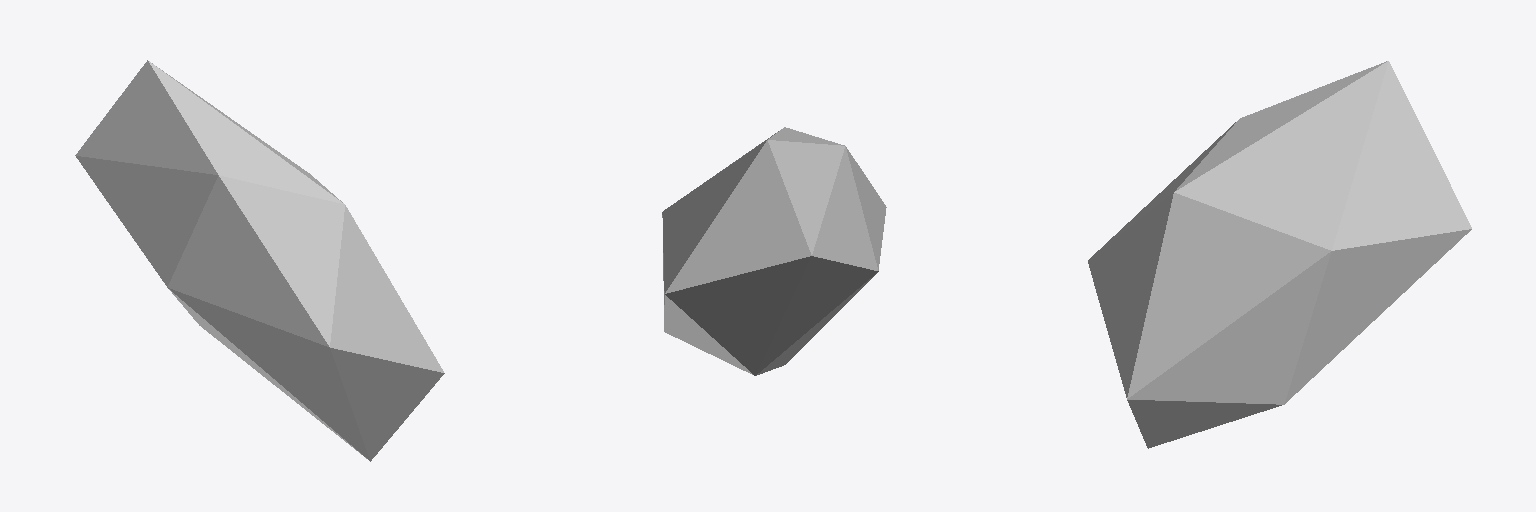
Rendered from astrd_3.obj.
3 renders of one model, left to right at view 1: azimuth 30°, elevation 25°; view 2: azimuth 150°, elevation 25°; view 3: azimuth 270°, elevation 25°, orthographic.
Parts seen in each view (by area): view 1: GeoSpher31; view 2: GeoSpher31; view 3: GeoSpher31.
Part boxes in pixels (x1,y1,x2,y2): GeoSpher31: (75,60,444,461); GeoSpher31: (662,127,886,375); GeoSpher31: (1088,61,1471,448).
Size of the model in its own units: 4.45 by 6.4 by 6.6.